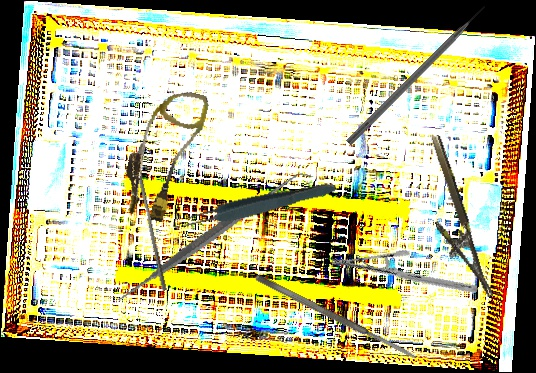Cannula: (116, 81, 211, 227)
Hook Surgical: (346, 4, 489, 147)
Needle Holder: (330, 219, 479, 332), (409, 134, 494, 306)
Pusher: (130, 160, 172, 292)
Spatula Surgical: (106, 132, 314, 341), (253, 272, 420, 363)
Tissue Forceps: (179, 176, 338, 233)
